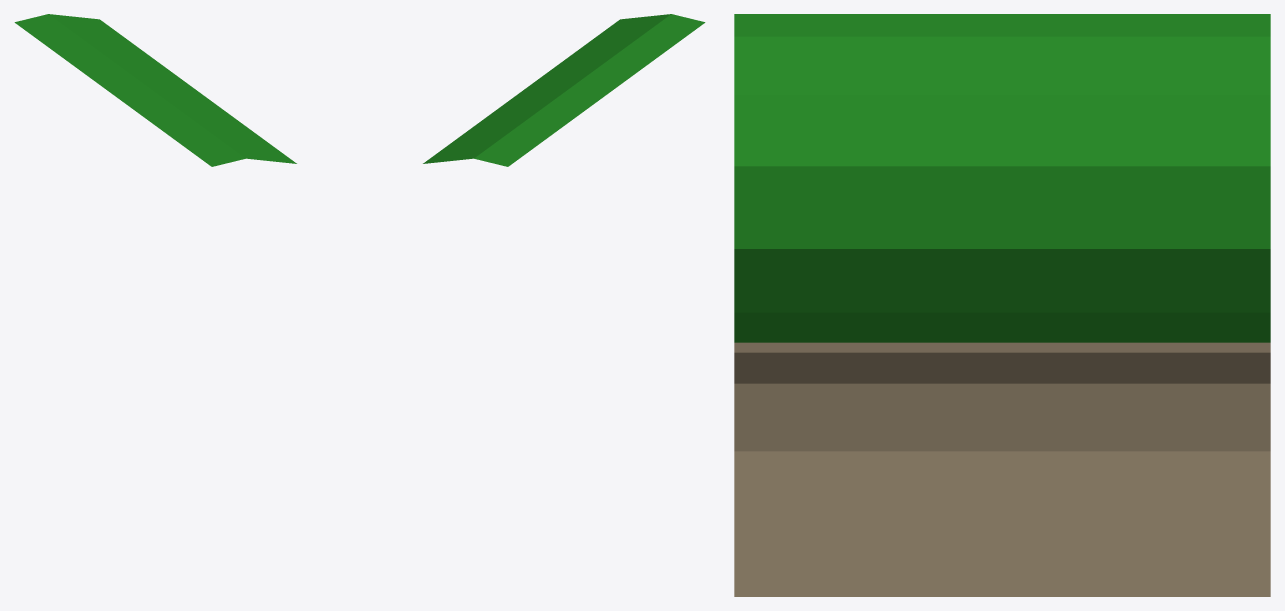
File: Escarpment_Terrain_Side_Top.glb
3 views of the same model, side by side, from view 1: azimuth 30°, elevation 25°; view 2: azimuth 150°, elevation 25°; view 3: azimuth 270°, elevation 25° (orthographic). The views are drawn at different scales.
Visible parts, largest first — view 1: Escarpment_Terrain_Side_Top; view 2: Escarpment_Terrain_Side_Top; view 3: Escarpment_Terrain_Side_Top.
Boxes of the visible parts, bbox=[...] form: Escarpment_Terrain_Side_Top: bbox=[14, 14, 296, 166]; Escarpment_Terrain_Side_Top: bbox=[423, 14, 705, 166]; Escarpment_Terrain_Side_Top: bbox=[734, 14, 1270, 596].
Size of the model in its own units: 0.3909 by 1.2 by 1.
